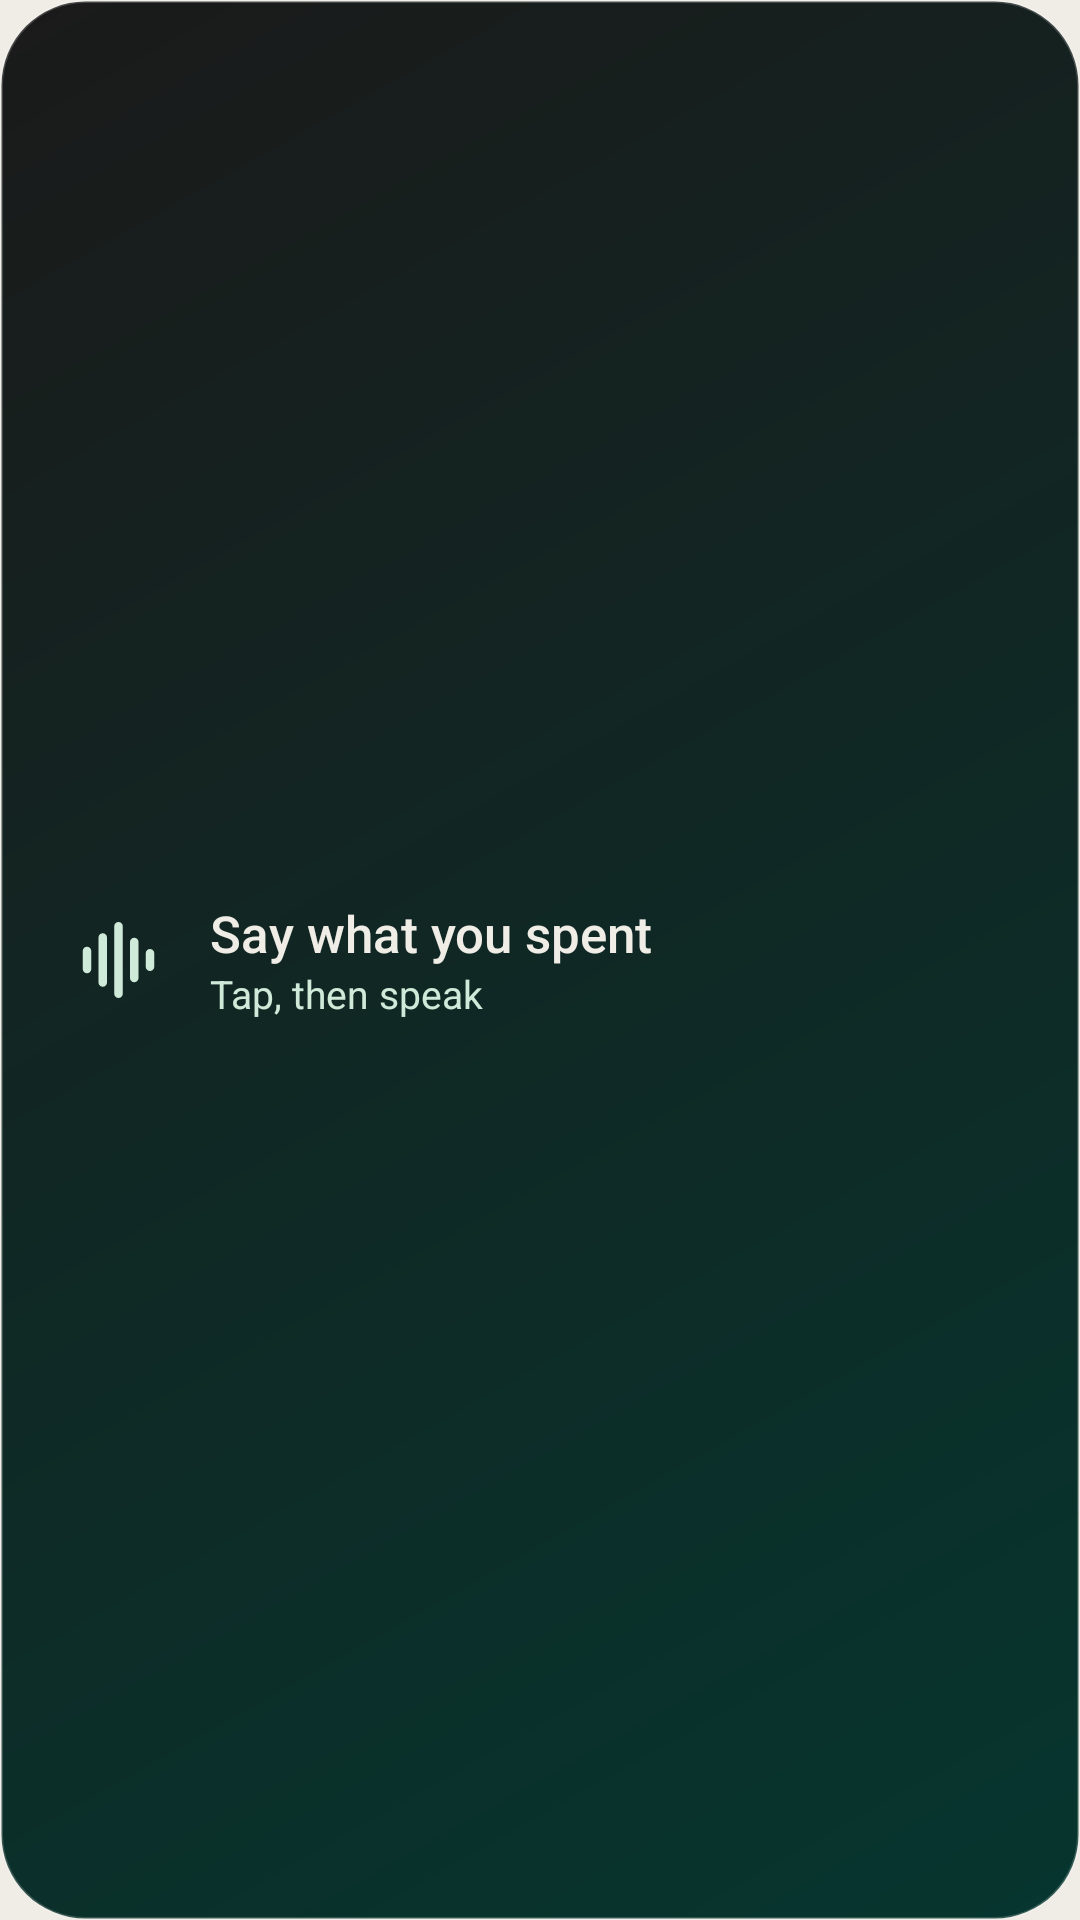

Icons on this 1080×1920 Android screen, each with its box as (x1, y1, x2, y2):
waveform: (82, 922, 155, 998)
